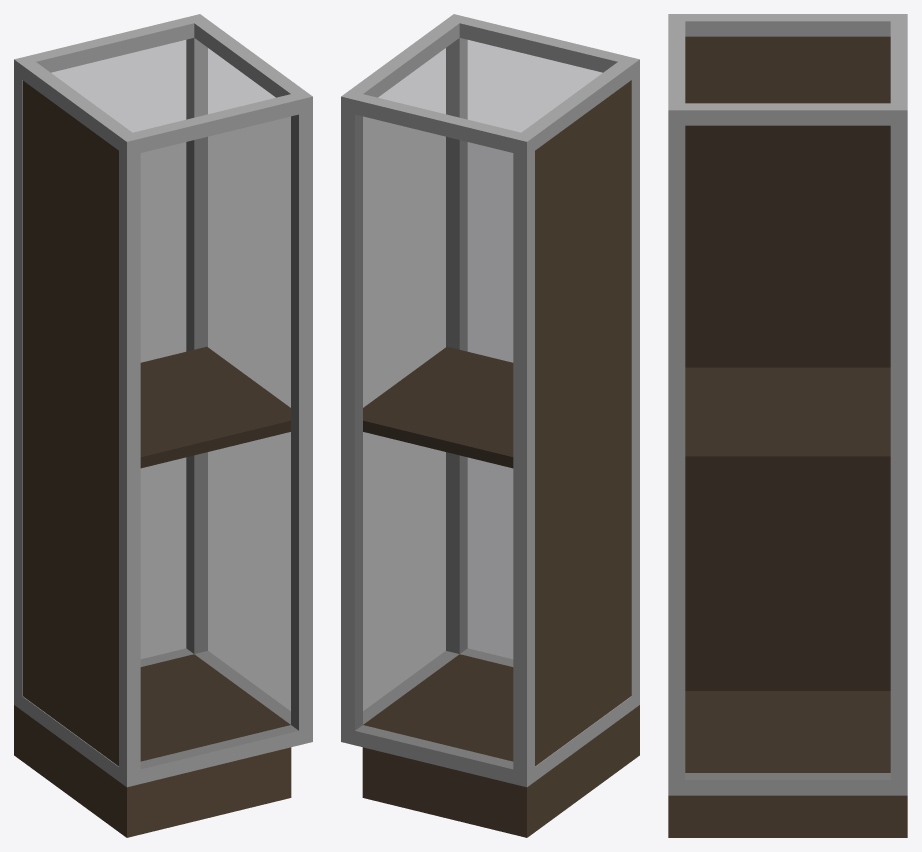
Rendered from SM_gunShopShelve_02.glb.
The picture shows the model from 3 angles, left to right: view 1: azimuth 30°, elevation 25°; view 2: azimuth 150°, elevation 25°; view 3: azimuth 270°, elevation 25°; orthographic projection. The views are drawn at different scales.
Visible parts, largest first — view 1: SM_gunShopShelve_02; view 2: SM_gunShopShelve_02; view 3: SM_gunShopShelve_02.
Part boxes in pixels (x1,y1,x2,y2): SM_gunShopShelve_02: [14, 14, 312, 837]; SM_gunShopShelve_02: [341, 14, 639, 837]; SM_gunShopShelve_02: [668, 14, 907, 837].
Bounding box in the file's own units: 0.6 × 2.14 × 0.6299.
2 materials, 1 textured.
